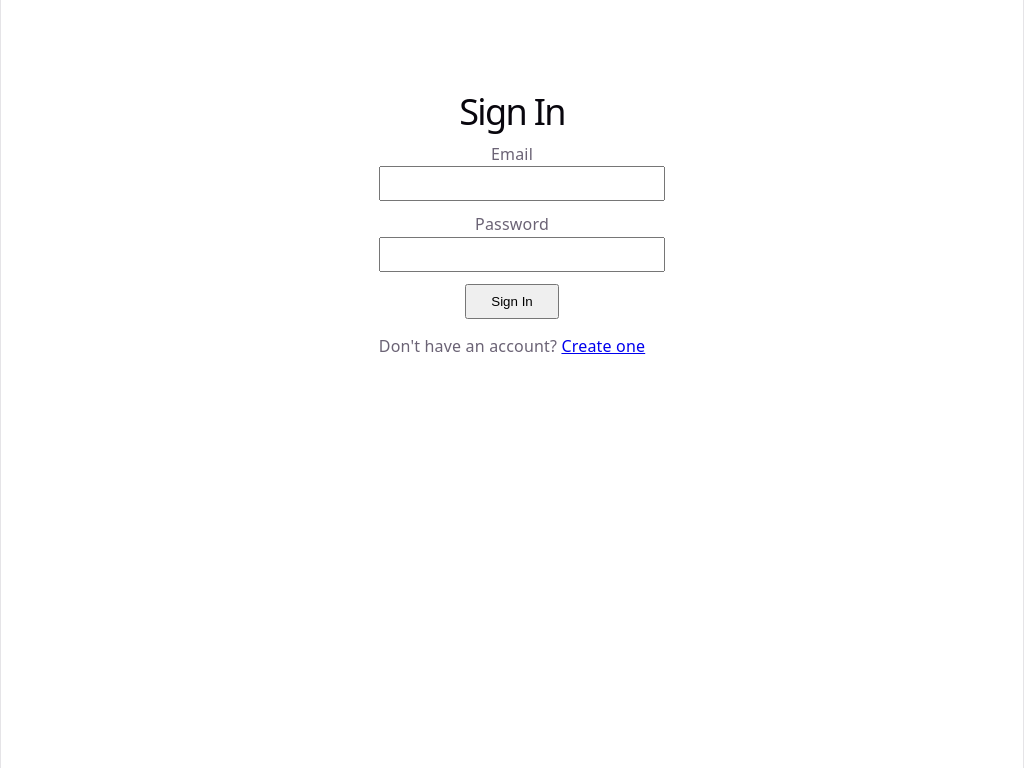
LoginPage › renders non_field_errors on 400 response
Type "wrong@example.com" into the field labelled "Email" at (522, 184), box [379, 166, 665, 201]
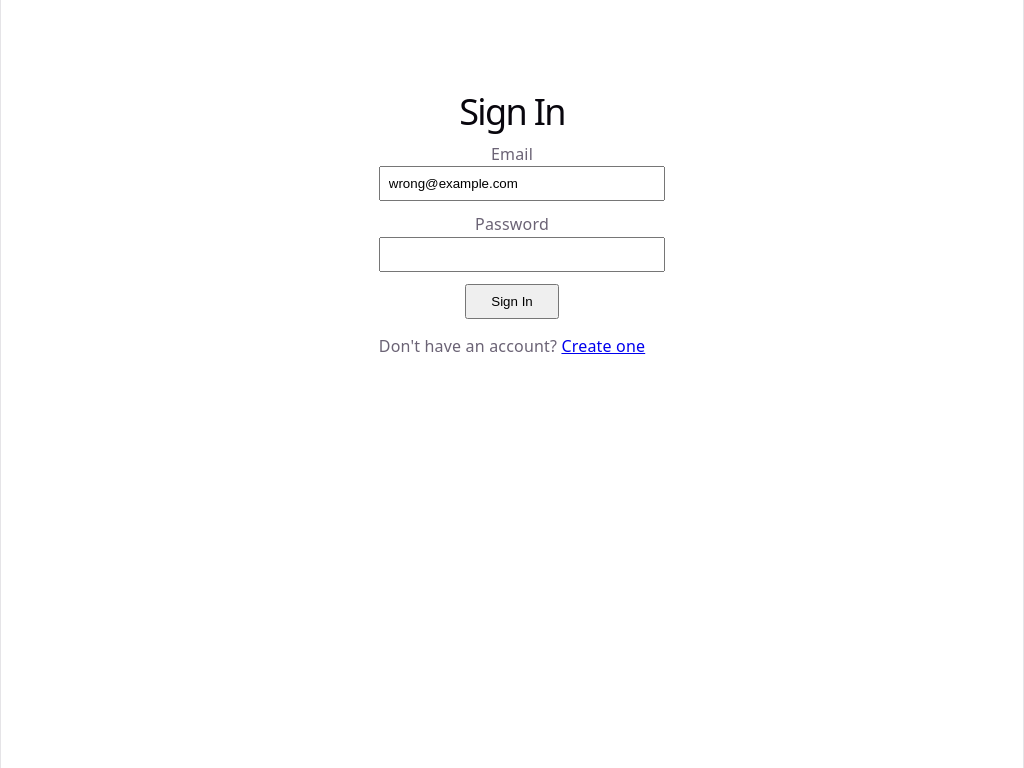
Type "wrongpass" into the password field labelled "Password" at (522, 254), box [379, 237, 665, 272]
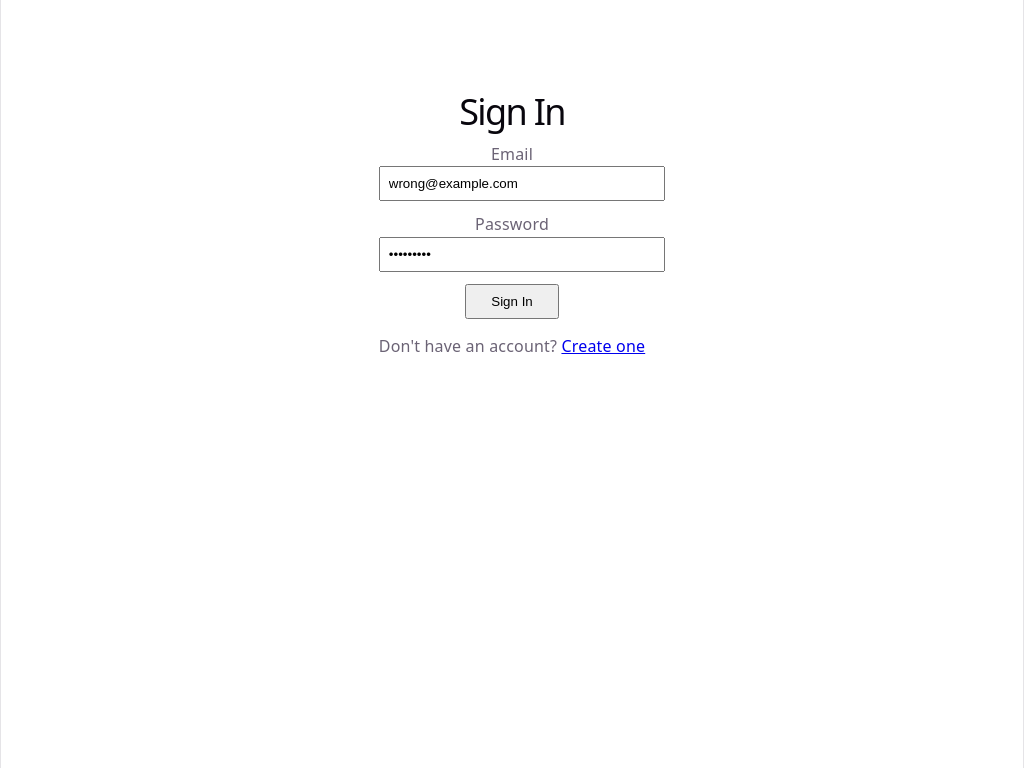
Click the button "Sign In" at (512, 301), box [465, 284, 559, 319]
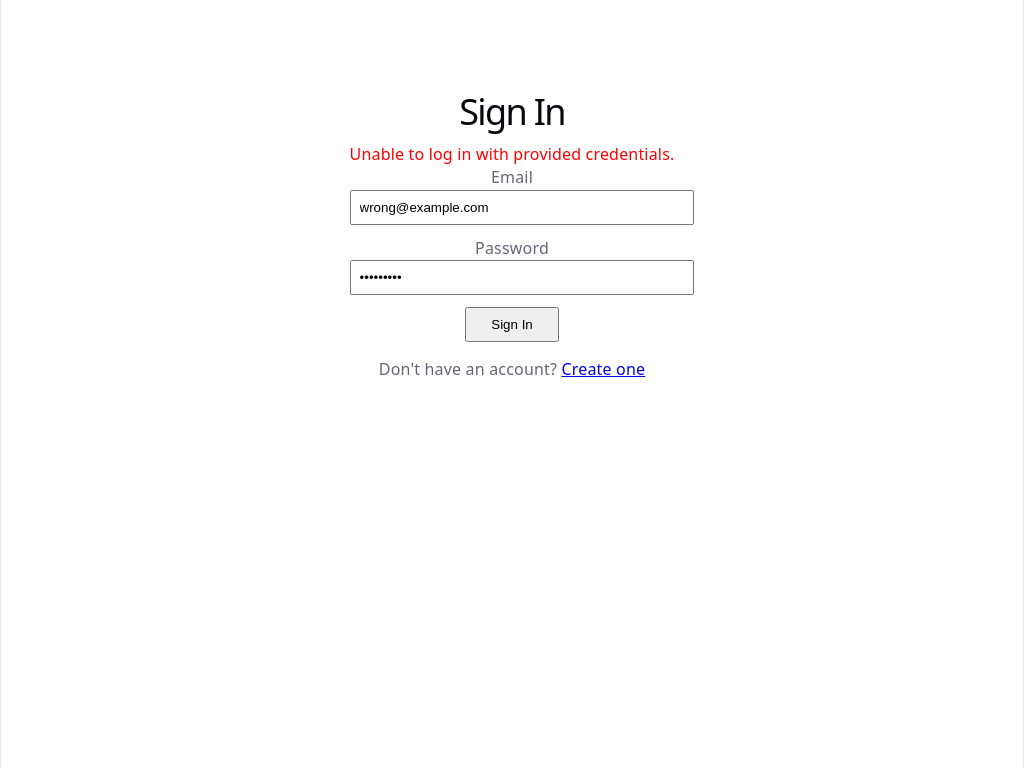
Result: the text "Unable to log in with provided credentials." is shown at [350, 143, 674, 166]
